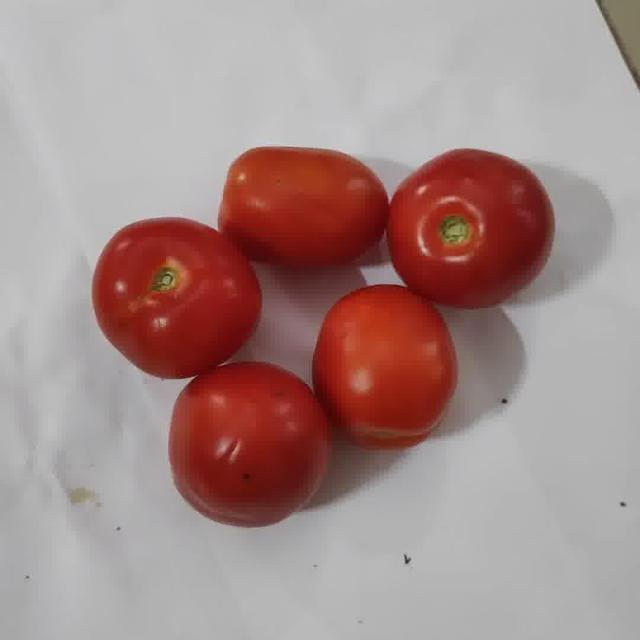Tomato: (92, 219, 261, 378), (387, 149, 553, 309), (169, 363, 331, 526), (313, 285, 455, 449), (219, 148, 388, 265)
